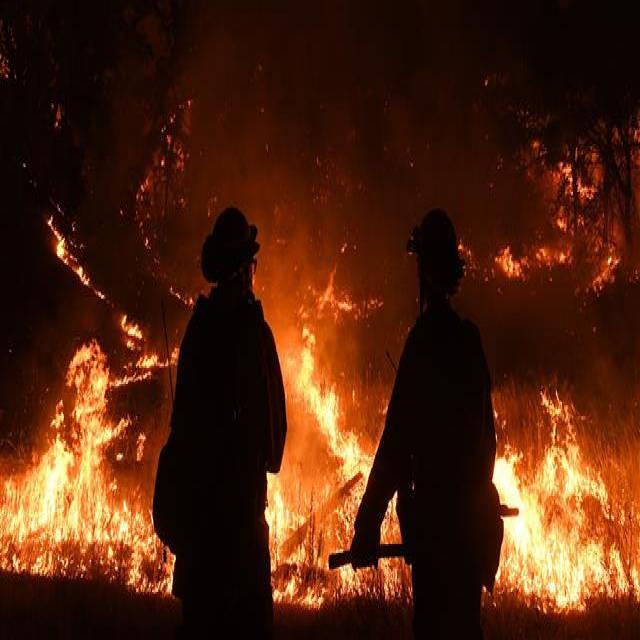Fire: (0, 341, 176, 612), (276, 329, 406, 612), (493, 404, 637, 619)
